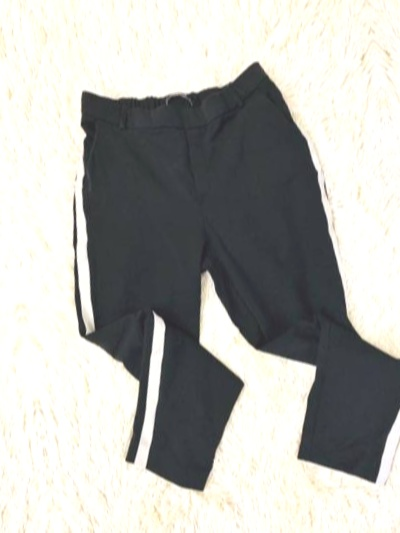Pants: (26, 29, 400, 526), (0, 98, 16, 533), (388, 0, 400, 465)
